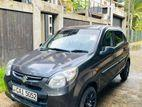car: (4, 25, 131, 107)
